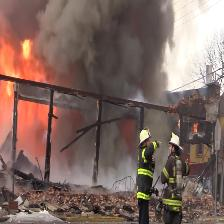smoke: (29, 1, 168, 102)
